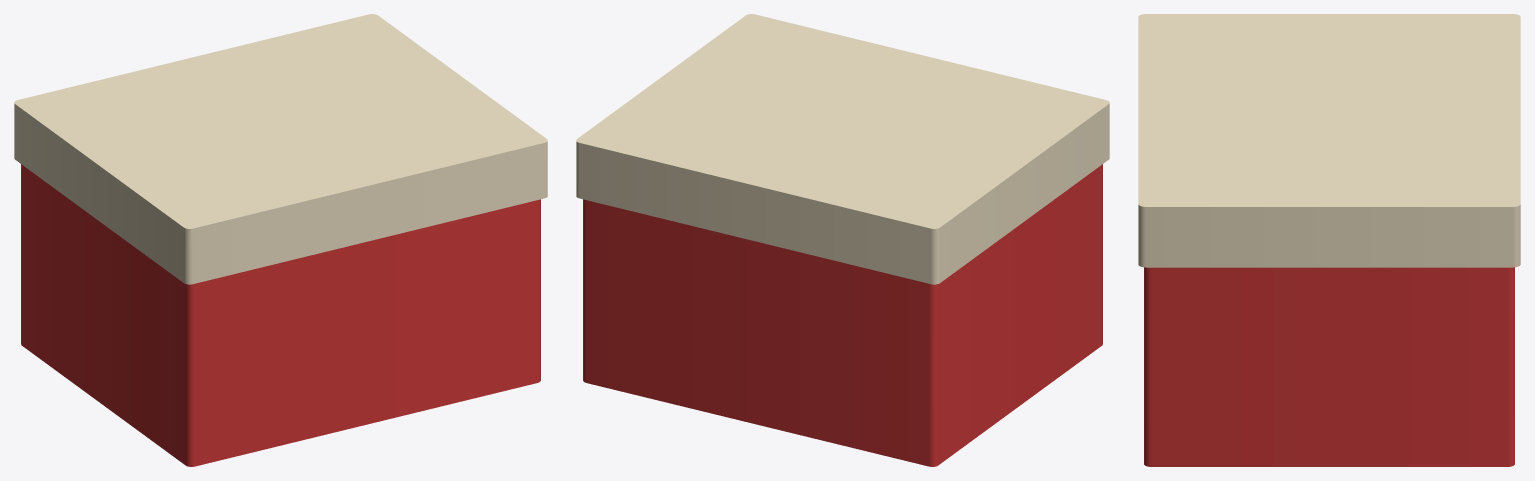
File: gift_box.glb
The picture shows the model from 3 angles, left to right: view 1: azimuth 30°, elevation 25°; view 2: azimuth 150°, elevation 25°; view 3: azimuth 270°, elevation 25°; orthographic projection. The views are drawn at different scales.
Parts seen in each view (by area): view 1: base, lid; view 2: base, lid; view 3: lid, base.
Part boxes in pixels (<box>): base: <box>21,164,540,466</box>; lid: <box>14,14,547,284</box>; base: <box>583,164,1102,466</box>; lid: <box>576,14,1109,284</box>; lid: <box>1138,14,1520,267</box>; base: <box>1144,267,1514,466</box>.
Bounding box in the file's own units: 0.246 × 0.156 × 0.206.
